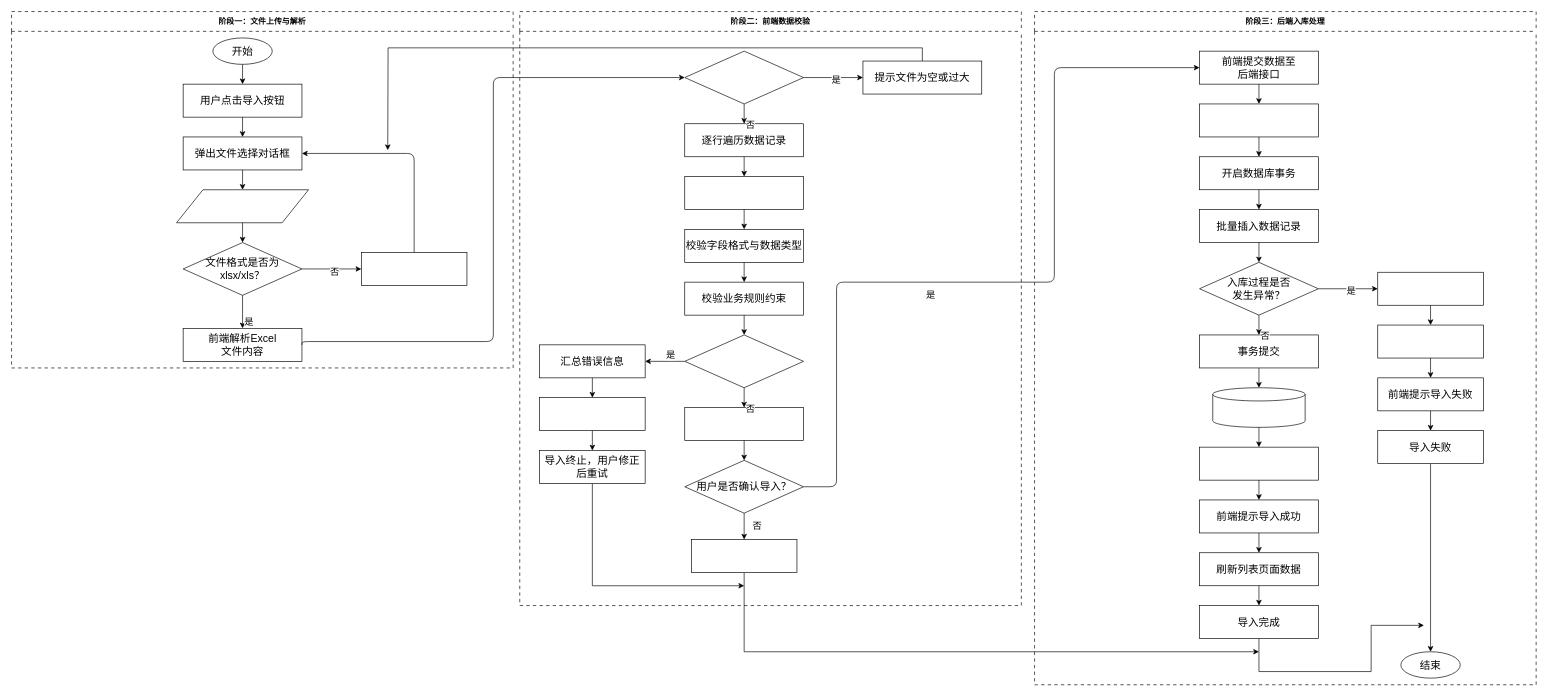
Some shapes in this 1548 by 696 pixel diagram are drawn without their labels. Here are the shapes that lost their labels. From the top down, the centre of each, then its label:
pixel 744 77: 文件是否为空或 超出大小限制？
pixel 1258 120: 后端接收并二次 校验数据
pixel 242 206: 选择Excel模板文件
pixel 744 193: 校验必填字段是否完整
pixel 414 268: 提示文件格式错误
pixel 1430 288: 事务回滚
pixel 744 361: 是否存在校验错误？
pixel 1430 341: 返回错误信息至前端
pixel 592 414: 弹窗展示校验失败详情
pixel 744 424: 显示数据预览与 确认对话框
pixel 1258 407: 数据写入MySQL
pixel 1258 463: 返回成功结果至前端
pixel 744 556: 用户取消导入
